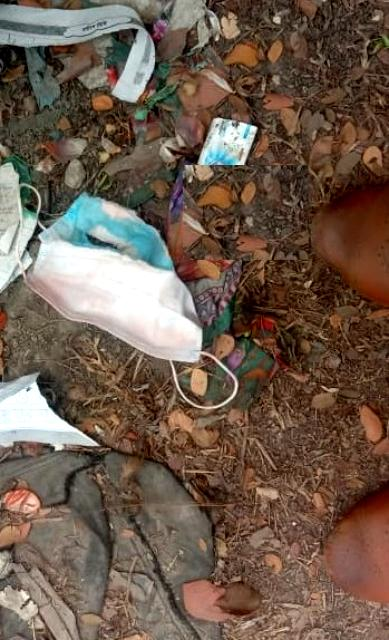mask: (8, 179, 260, 403)
